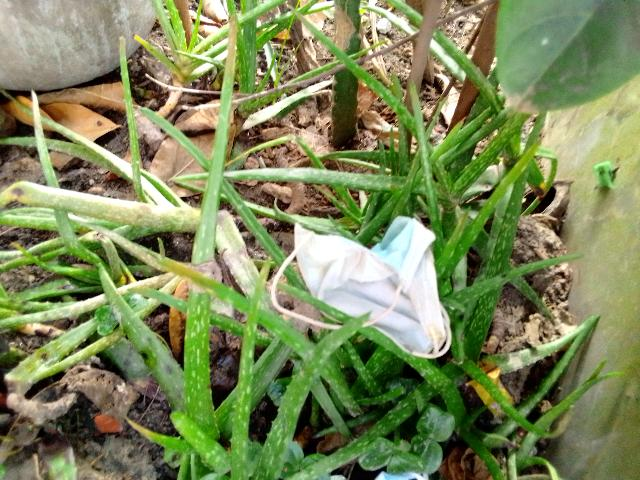mask: (317, 207, 444, 361)
